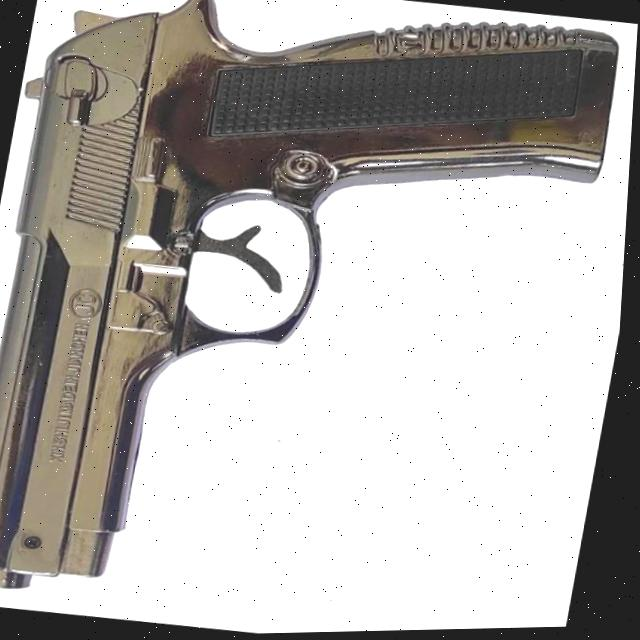gun: (0, 0, 625, 587)
